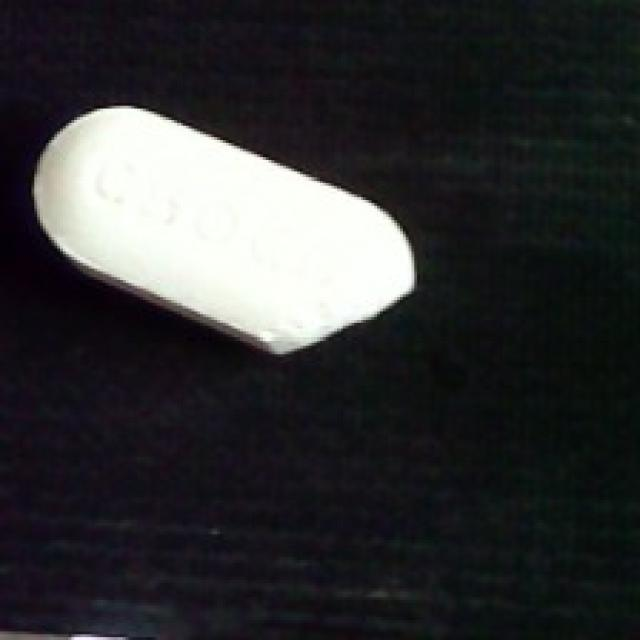defected: (23, 99, 417, 368)
